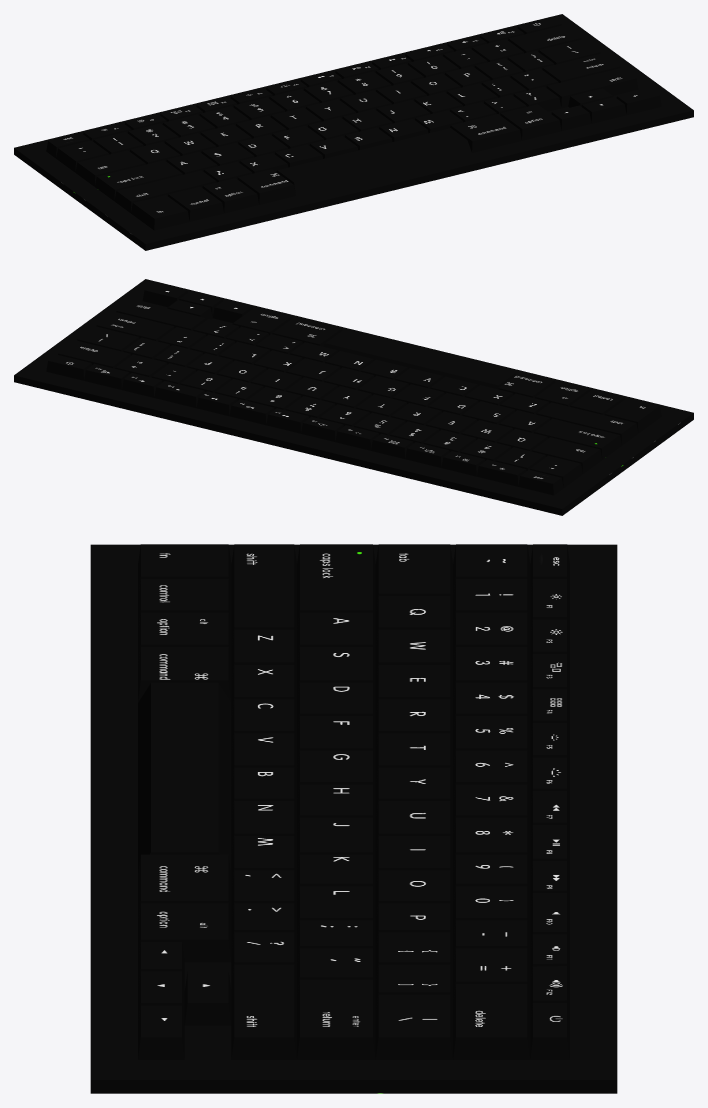
3 renders of one model, top to bottom at view 1: azimuth 30°, elevation 25°; view 2: azimuth 150°, elevation 25°; view 3: azimuth 270°, elevation 25°, orthographic. The views are drawn at different scales.
Visible parts, largest first — view 1: Keyboard1; view 2: Keyboard1; view 3: Keyboard1.
Boxes of the visible parts, <box> form: Keyboard1: <box>14,14,693,250</box>; Keyboard1: <box>14,279,693,515</box>; Keyboard1: <box>90,544,617,1093</box>.
Size of the model in its own units: 0.2683 by 0.0082 by 0.1115.
1 material, 1 textured.
